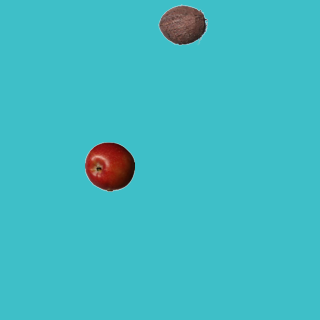Apple Braeburn: (84, 141, 134, 191)
Cocos: (157, 0, 207, 49)
